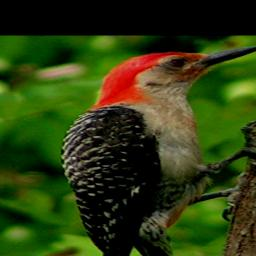Woodpecker: (59, 45, 256, 256)
